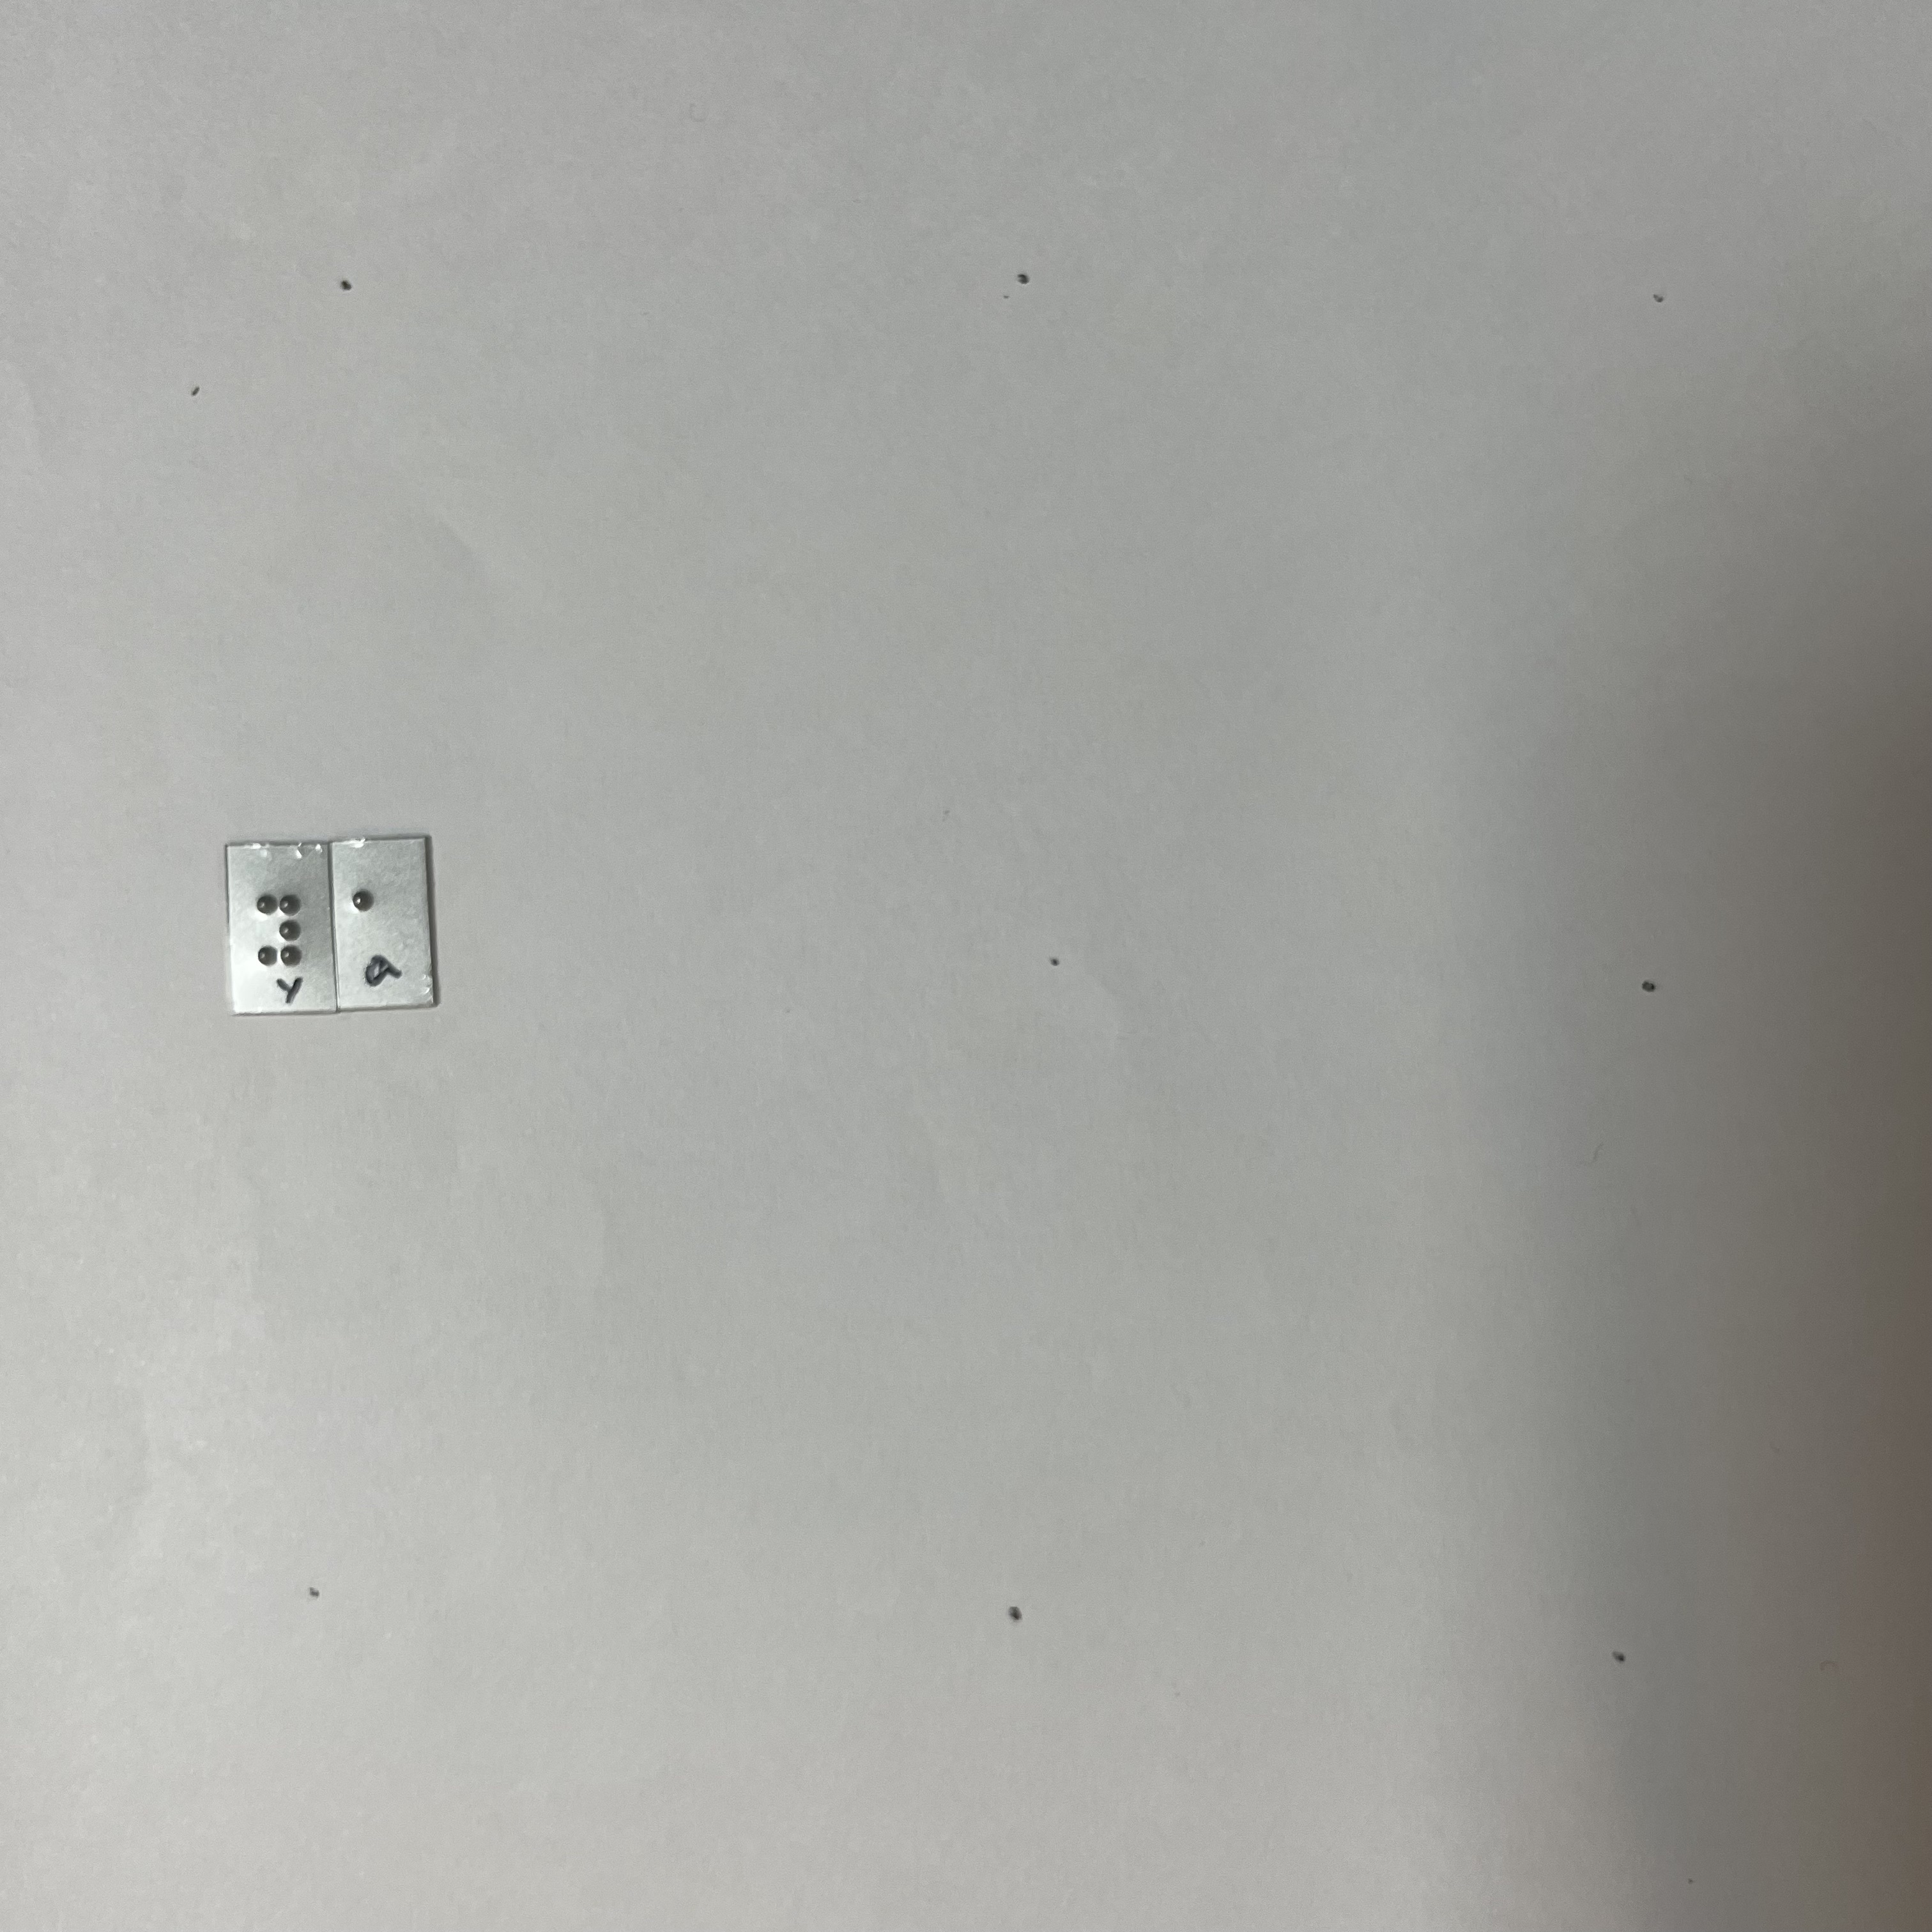a: (353, 879, 404, 969)
y: (247, 877, 309, 974)
